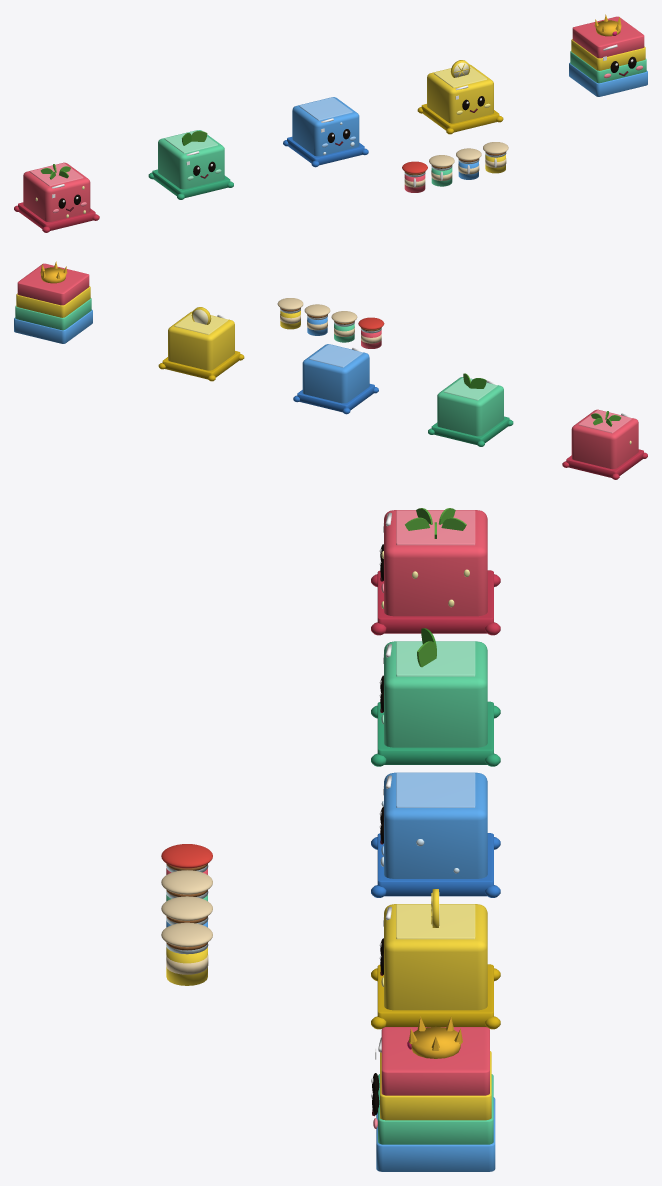
The model's file is gelees-cubes.glb.
3 renders of one model, top to bottom at view 1: azimuth 30°, elevation 25°; view 2: azimuth 150°, elevation 25°; view 3: azimuth 270°, elevation 25°, orthographic. The views are drawn at different scales.
Visible parts, largest first — view 1: gelee.007, gelee.001, gelee.004, gelee.010, gelee.015, gelee.012, gelee.014, gelee.013, gelee.003, gelee.008, gelee.009, gelee.006 (+4 smaller); view 2: gelee.007, gelee.001, gelee.010, gelee.004, gelee.015, gelee.012, gelee.013, gelee.014, gelee.003, gelee.008, gelee.009, gelee.006 (+5 smaller); view 3: gelee.010, gelee.004, gelee.001, gelee.007, gelee.015, gelee.012, gelee.013, gelee.014, gelee.008, gelee.011, gelee.003, gelee (+9 smaller).
Boxes of the visible parts, bbox=[...] form: gelee.007: bbox=[292, 97, 359, 156]; gelee.001: bbox=[23, 162, 90, 221]; gelee.004: bbox=[158, 130, 224, 189]; gelee.010: bbox=[427, 64, 493, 123]; gelee.015: bbox=[572, 16, 644, 58]; gelee.012: bbox=[569, 62, 647, 96]; gelee.014: bbox=[571, 39, 645, 70]; gelee.013: bbox=[570, 51, 646, 83]; gelee.003: bbox=[152, 169, 230, 197]; gelee.008: bbox=[299, 97, 352, 120]; gelee.009: bbox=[421, 104, 499, 132]; gelee.006: bbox=[287, 137, 364, 165]; gelee.007: bbox=[302, 344, 369, 403]; gelee.001: bbox=[571, 409, 638, 468]; gelee.010: bbox=[168, 311, 234, 370]; gelee.004: bbox=[437, 377, 503, 436]; gelee.015: bbox=[17, 263, 89, 305]; gelee.012: bbox=[14, 309, 92, 343]; gelee.013: bbox=[15, 298, 91, 330]; gelee.014: bbox=[16, 286, 90, 317]; gelee.003: bbox=[431, 416, 509, 444]; gelee.008: bbox=[309, 344, 362, 367]; gelee.009: bbox=[162, 351, 240, 379]; gelee.006: bbox=[297, 384, 374, 412]; gelee.010: bbox=[384, 904, 487, 1010]; gelee.004: bbox=[384, 641, 487, 747]; gelee.001: bbox=[384, 510, 487, 616]; gelee.007: bbox=[384, 772, 487, 878]; gelee.015: bbox=[381, 1027, 489, 1095]; gelee.012: bbox=[376, 1097, 495, 1171]; gelee.013: bbox=[378, 1074, 493, 1144]; gelee.014: bbox=[380, 1051, 491, 1120]; gelee.008: bbox=[396, 773, 475, 807]; gelee.011: bbox=[396, 904, 475, 939]; gelee.003: bbox=[377, 701, 493, 764]; gelee: bbox=[377, 570, 493, 633].
Size of the model in its own units: 13.5 by 1.32 by 3.28.
